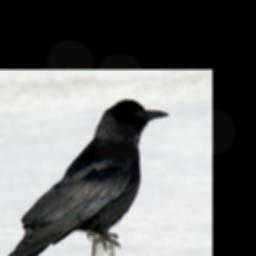Crow: (0, 98, 172, 256)
